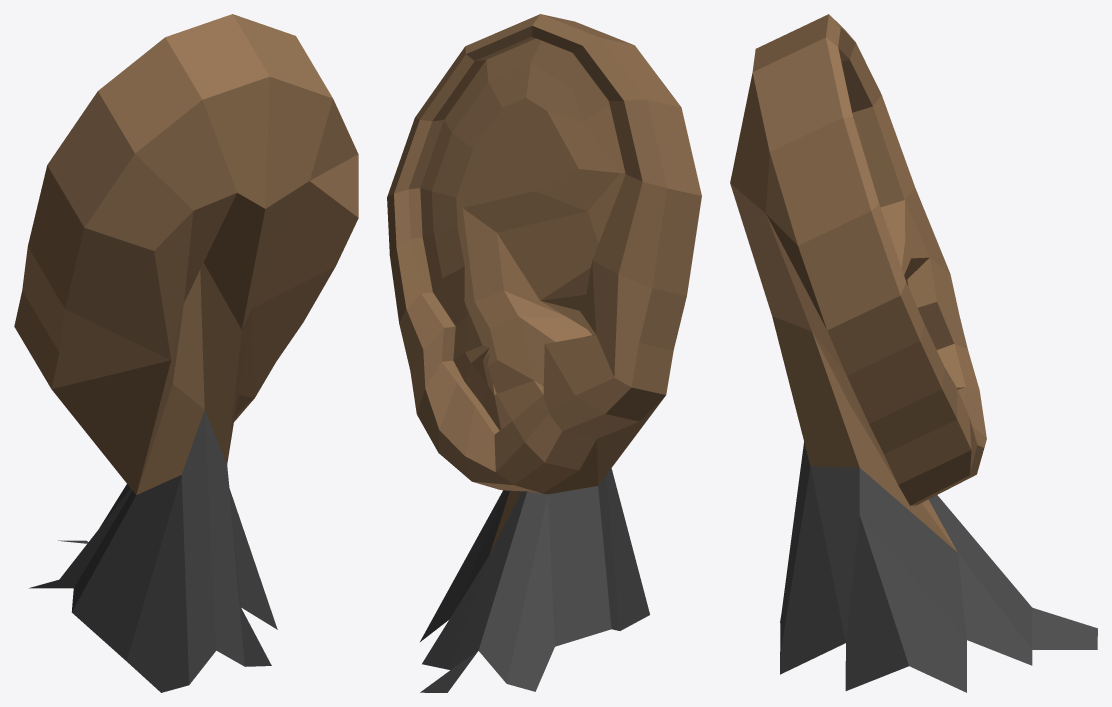
Rendered from AllEarsEar.fbx.
3 renders of one model, left to right at view 1: azimuth 30°, elevation 25°; view 2: azimuth 150°, elevation 25°; view 3: azimuth 270°, elevation 25°, orthographic. The views are drawn at different scales.
Parts seen in each view (by area): view 1: AllEarsEar; view 2: AllEarsEar; view 3: AllEarsEar.
Boxes of the visible parts, <box> form: AllEarsEar: <box>14,14,358,692</box>; AllEarsEar: <box>387,14,701,692</box>; AllEarsEar: <box>730,14,1097,692</box>.
Bounding box in the file's own units: 236 × 498 × 264.
